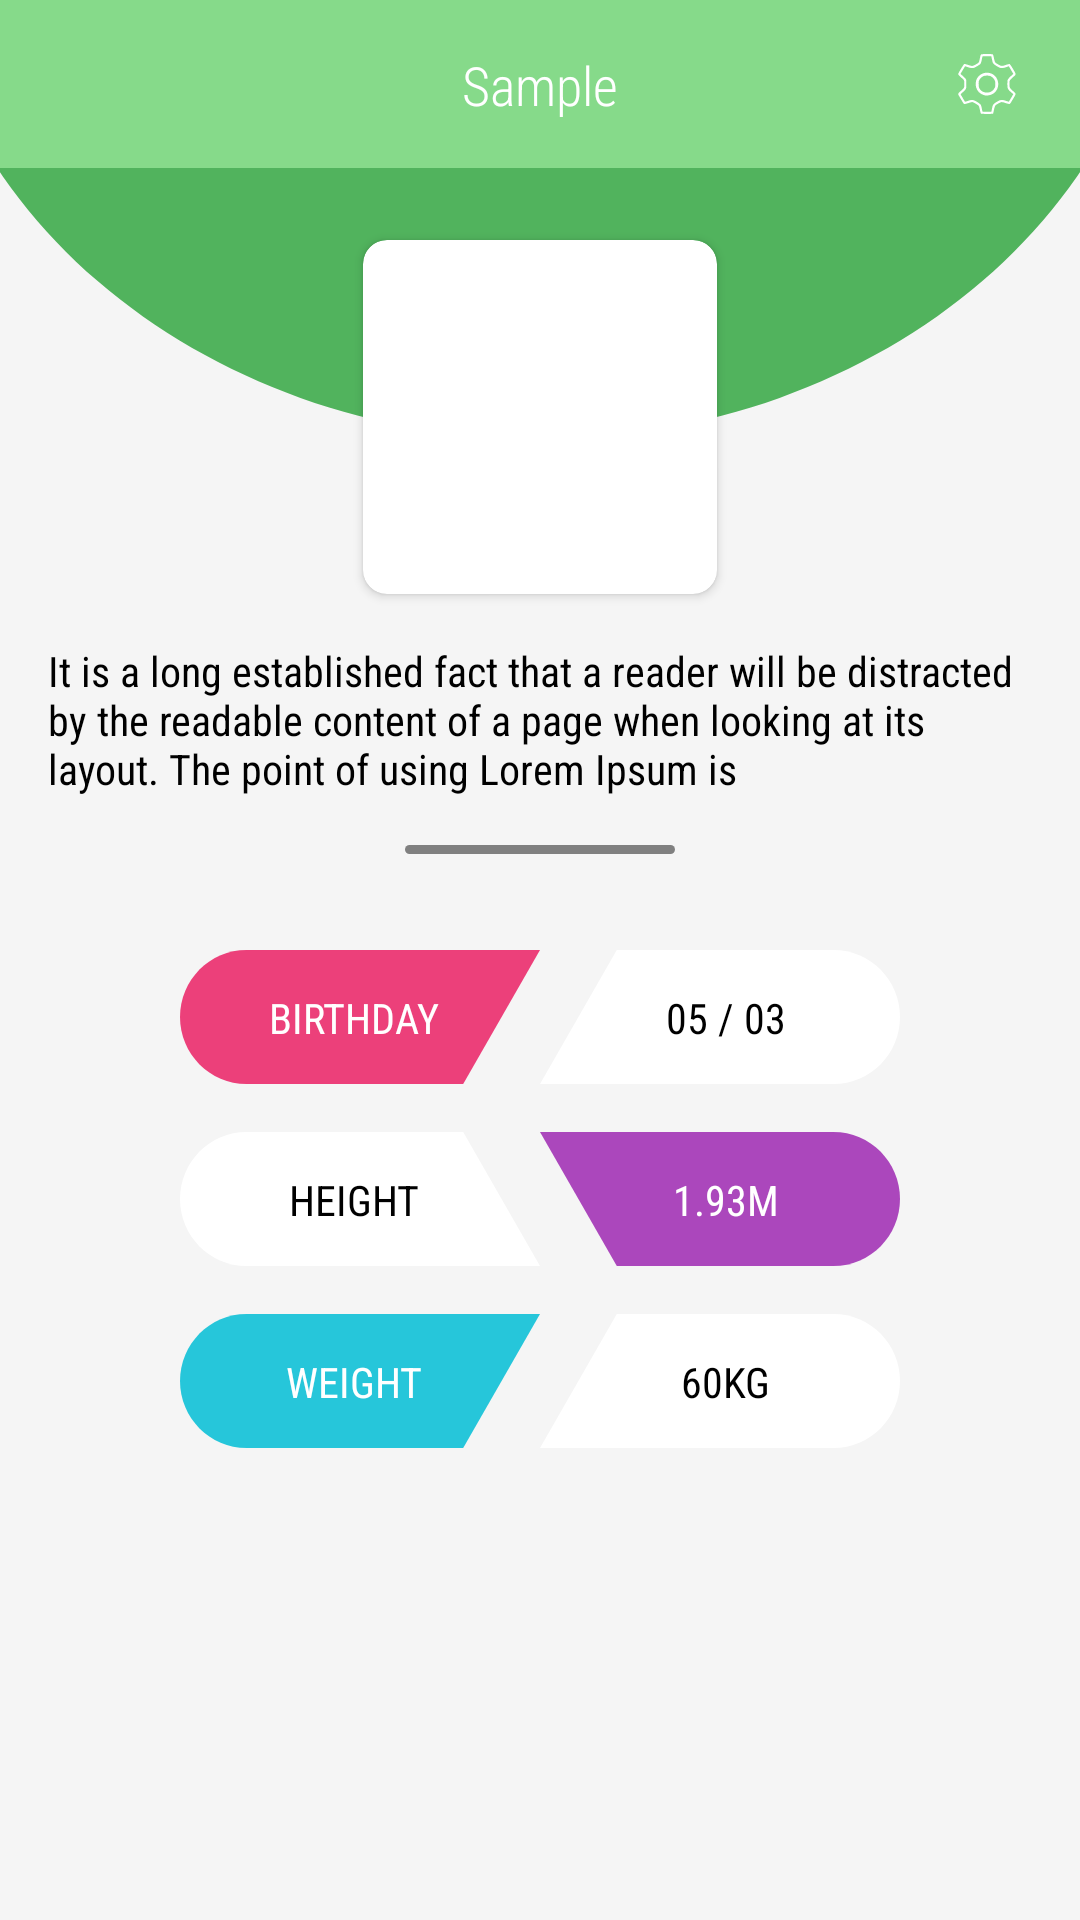

Screen size 1080×1920. Icon name, then its box in pixels as (x1, y1, x2, y2):
Settings Button: (958, 54, 1016, 114)
